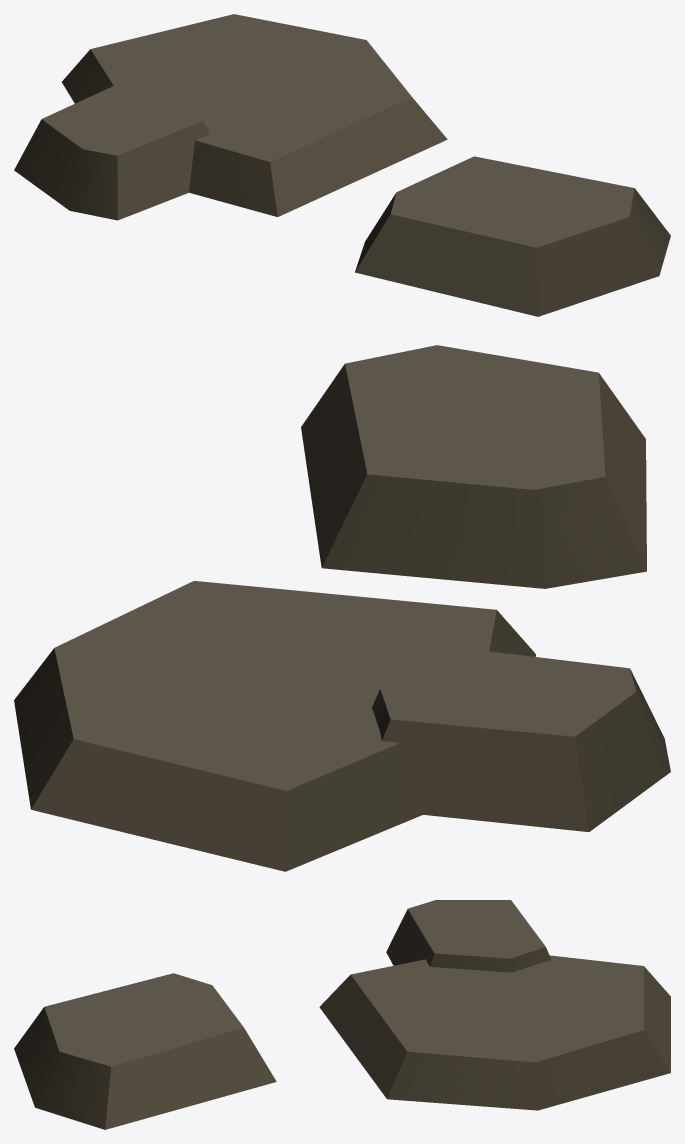
File: MediumMore_SF_Env_Undead_Rock_04.fbx
3 views of the same model, one above another, from view 1: azimuth 30°, elevation 25°; view 2: azimuth 150°, elevation 25°; view 3: azimuth 270°, elevation 25° (orthographic). The views are drawn at different scales.
Visible parts, largest first — view 1: SF_Env_Undead_Rock_04; view 2: SF_Env_Undead_Rock_04; view 3: SF_Env_Undead_Rock_04.
Part boxes in pixels (<box>): SF_Env_Undead_Rock_04: <box>14,14,670,316</box>; SF_Env_Undead_Rock_04: <box>14,345,670,871</box>; SF_Env_Undead_Rock_04: <box>14,900,670,1129</box>.
Bounding box in the file's own units: 307 × 36.69 × 449.
